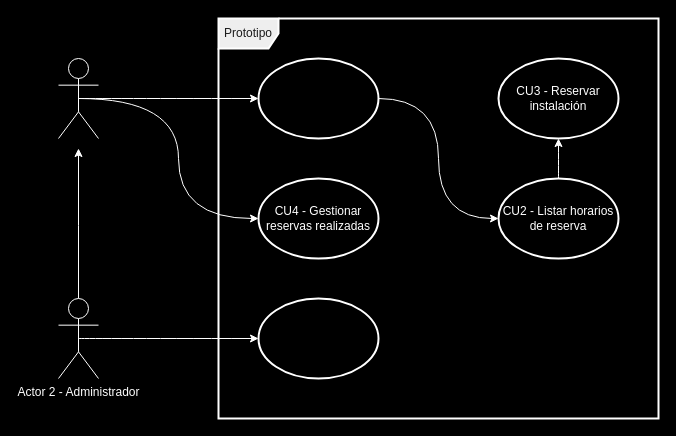
The diagram is 676 pixels wide and 436 high, and some of its shapes have lost their labels. The box of each missing label's shape, as (x1, y1, x2, y2) in pixels:
Actor 1 - Usuario: (58, 58, 98, 138)
CU1 - Listar instalaciones: (257, 57, 379, 139)
CU5 - Gestionar instalaciones: (257, 297, 379, 379)
